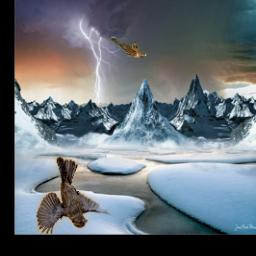Cuckoo: (110, 37, 147, 58)
Sparrow: (37, 158, 115, 235)
